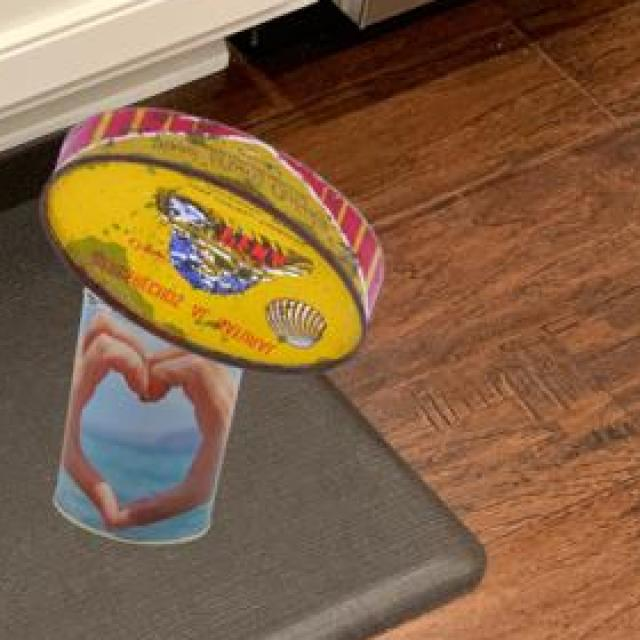logam: (45, 104, 387, 371), (58, 285, 246, 541)
